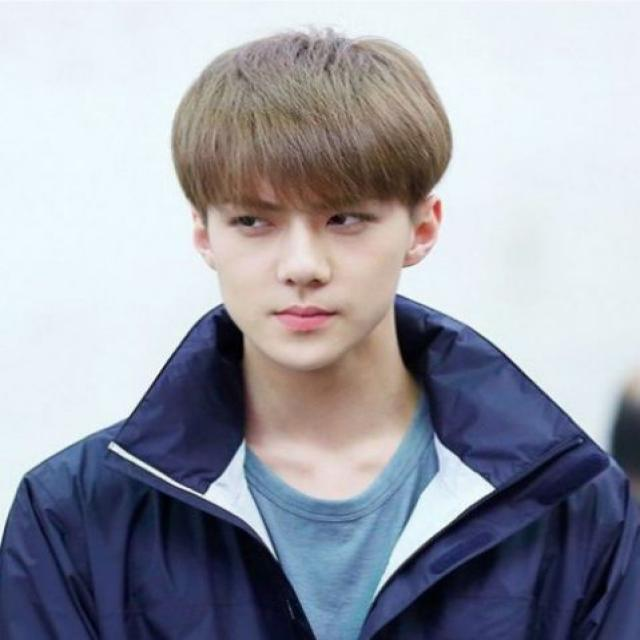Nonhelmet: (156, 24, 462, 372)
